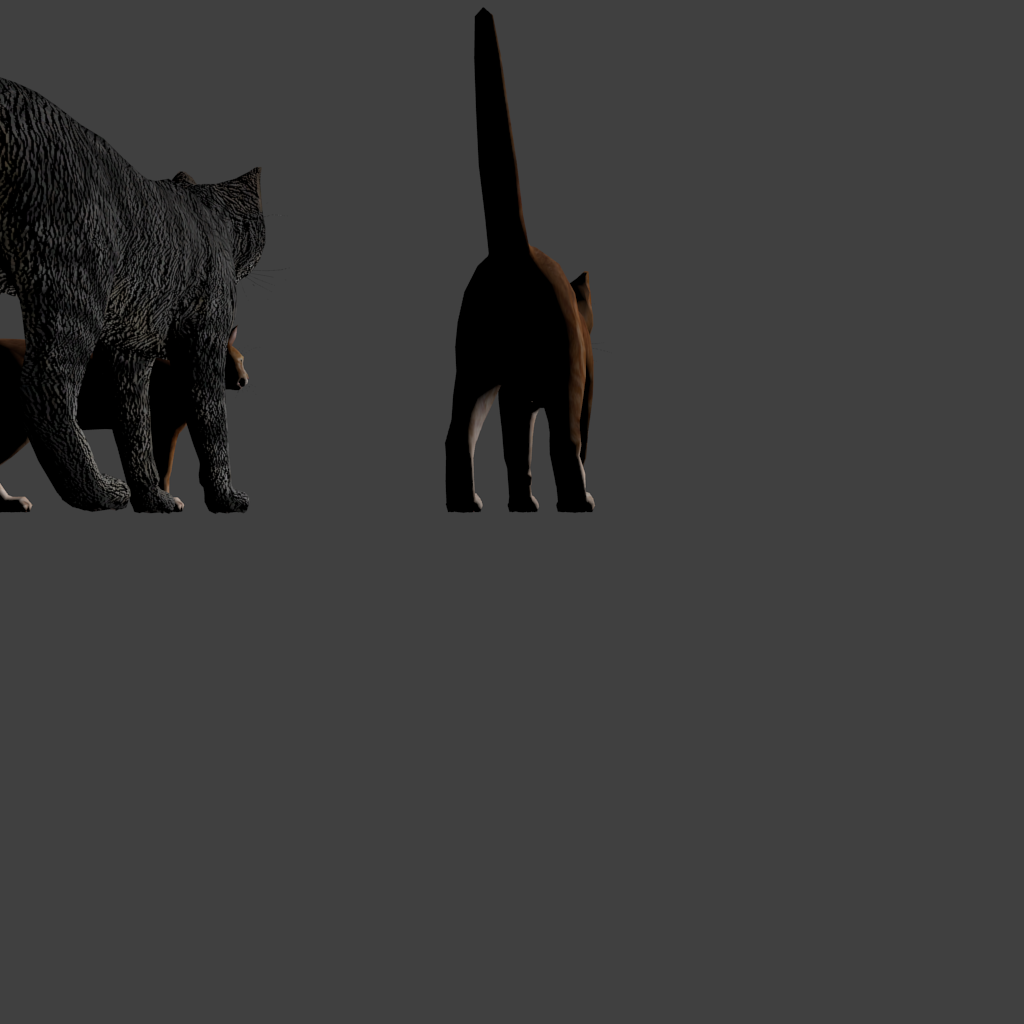Cat: (0, 0, 303, 514), (0, 225, 262, 288)
